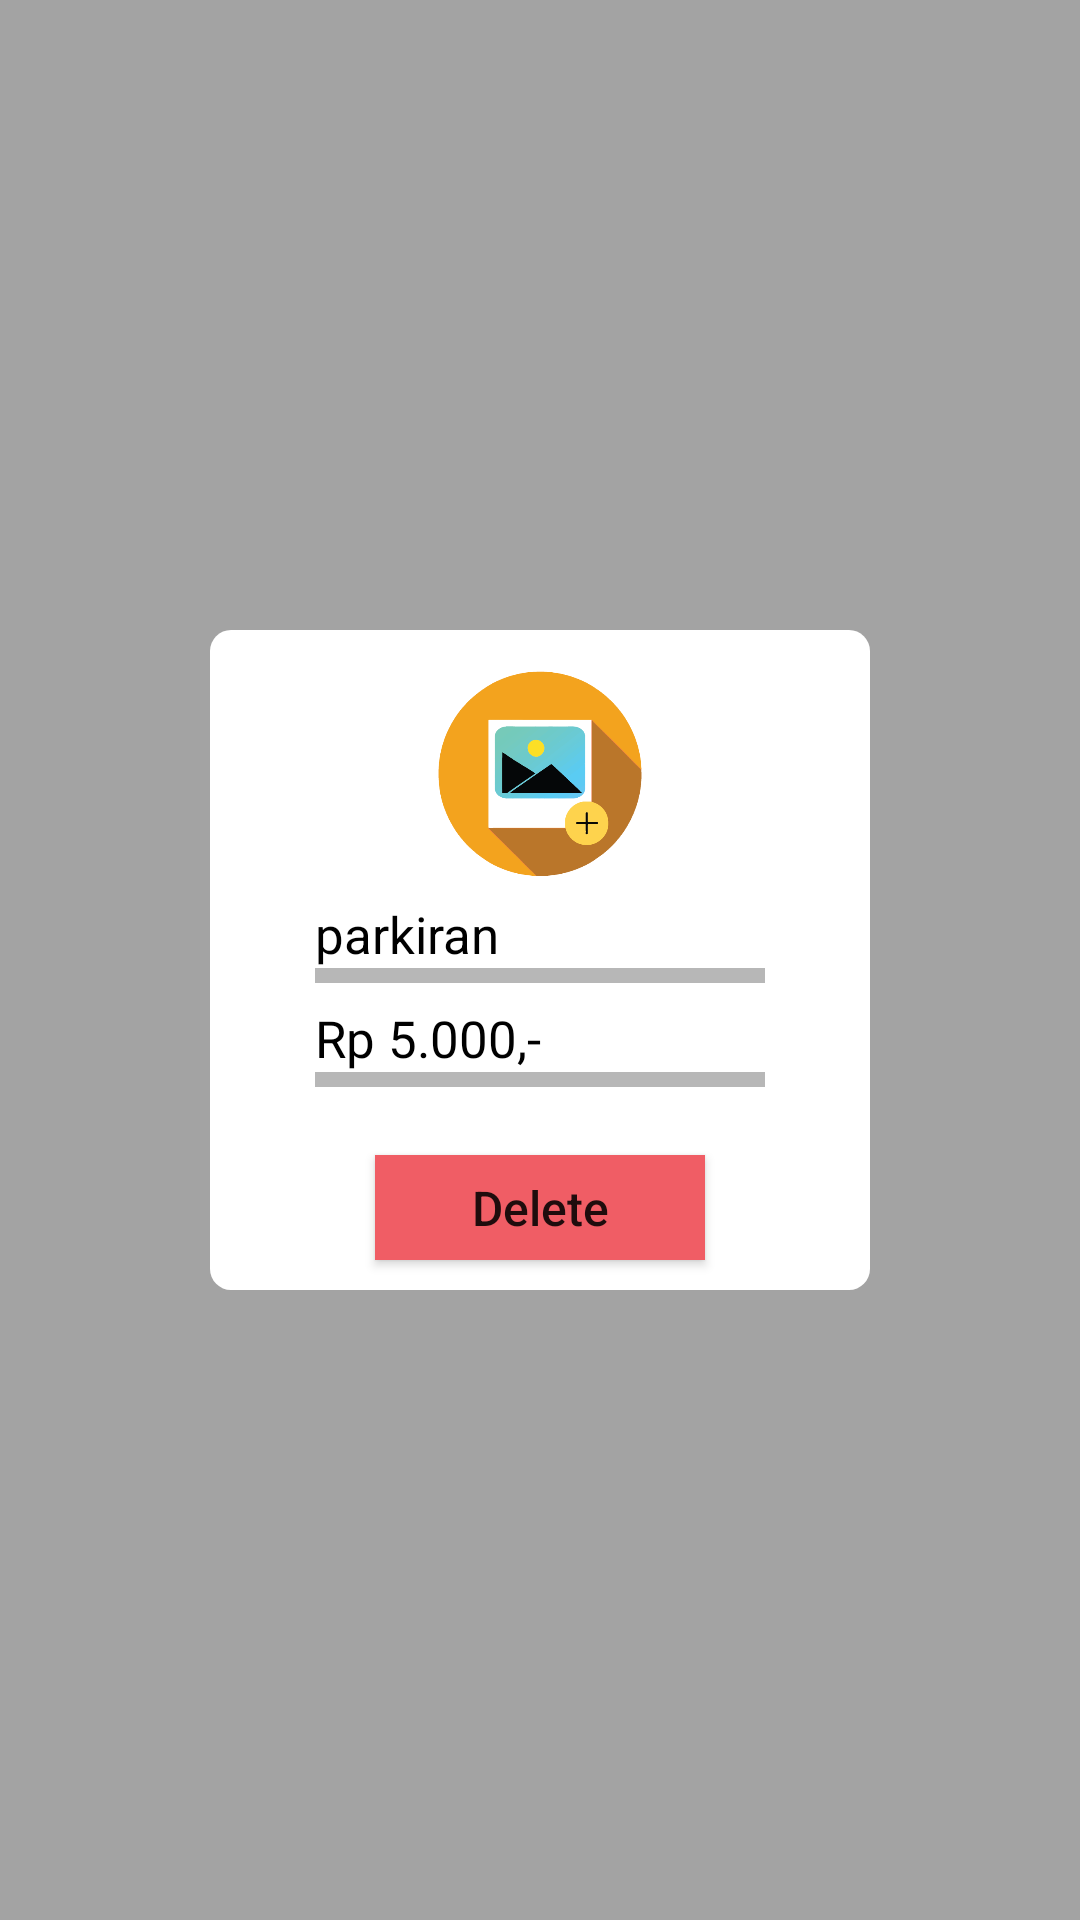

Screen size 1080w x 1920h. Icon name, then its box in pixels as BBox(x1, y1, x2, y2):
add: BBox(438, 671, 642, 876)
